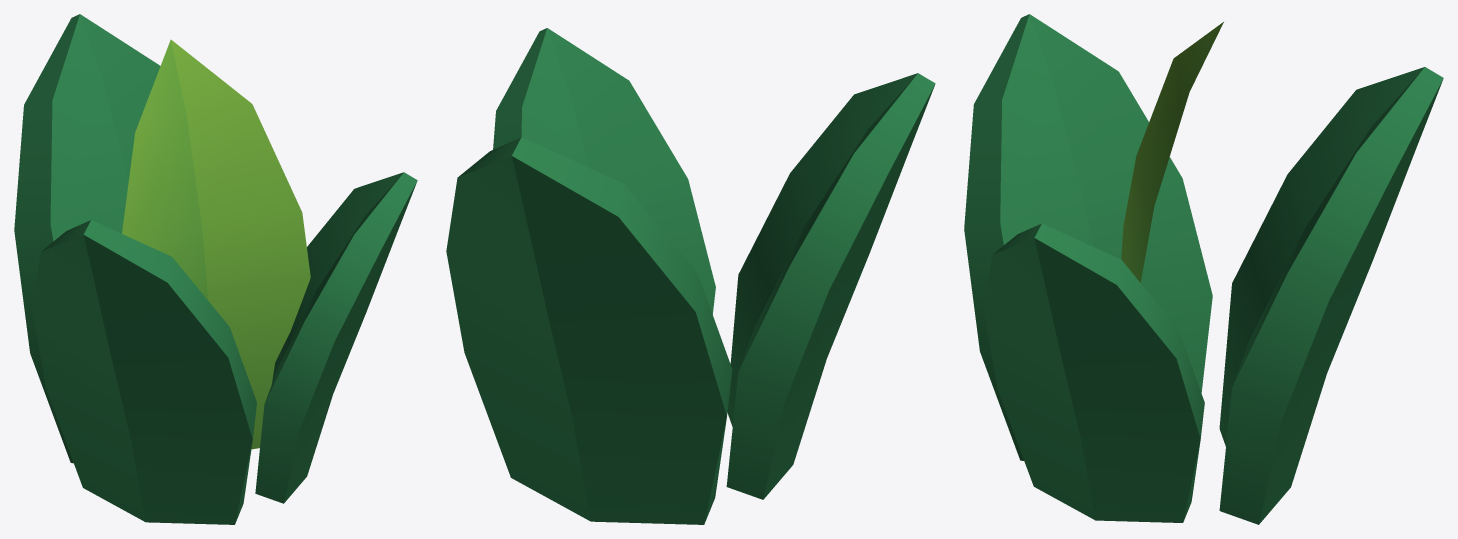
The model's file is grass1and2.glb.
3 renders of one model, left to right at view 1: azimuth 30°, elevation 25°; view 2: azimuth 150°, elevation 25°; view 3: azimuth 270°, elevation 25°, orthographic. The views are drawn at different scales.
Parts seen in each view (by area): view 1: Grass_1_B_Color1, Grass_1_A_Singlesided_Color1; view 2: Grass_1_B_Color1; view 3: Grass_1_B_Color1, Grass_1_A_Singlesided_Color1.
Boxes of the visible parts, x1,y1,x2,y2 form: Grass_1_B_Color1: (14, 14, 417, 524); Grass_1_A_Singlesided_Color1: (122, 39, 310, 449); Grass_1_B_Color1: (446, 28, 935, 524); Grass_1_B_Color1: (964, 14, 1443, 524); Grass_1_A_Singlesided_Color1: (1121, 22, 1223, 282).
Bounding box in the file's own units: 0.5051 × 0.5956 × 0.5557.
Materials: 2 (1 with a texture image).
